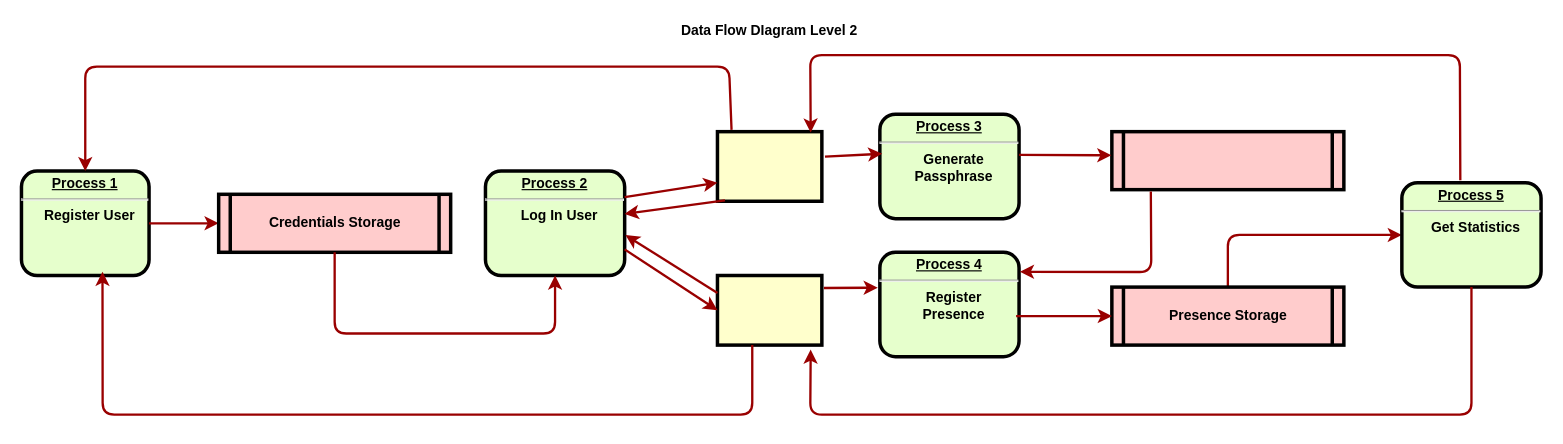
This 1563x444 diagram has some shape labels left out. Each missing label, with the centre of its shape:
"Passphrase Storage" belongs at point 1227,160.
"Students" belongs at point 769,309.
"Teachers" belongs at point 769,165.
